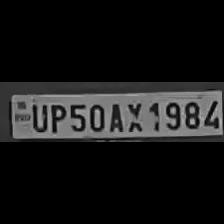0: (88, 102, 106, 132)
1: (145, 99, 161, 131)
4: (201, 97, 221, 128)
5: (66, 100, 86, 132)
8: (182, 99, 200, 129)
9: (161, 99, 181, 130)
A: (107, 100, 125, 132)
P: (47, 102, 65, 132)
U: (28, 102, 48, 132)
X: (124, 99, 144, 133)
